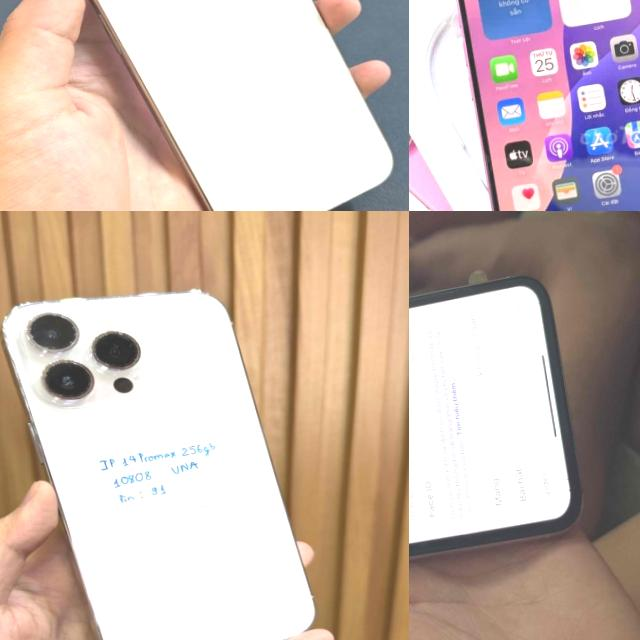gen_14: (0, 279, 319, 640)
gen_16: (444, 0, 640, 211)
gen_17: (44, 0, 409, 211)
gen_x_xs: (409, 268, 597, 623)
